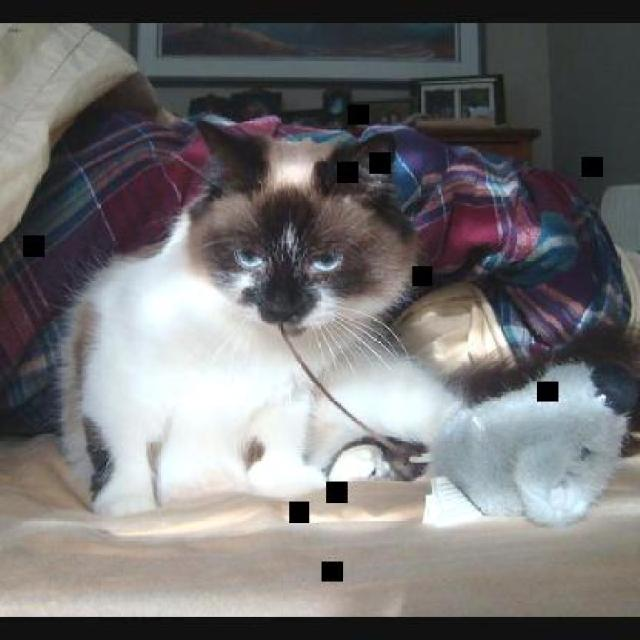unauthorized: (51, 114, 638, 523)
